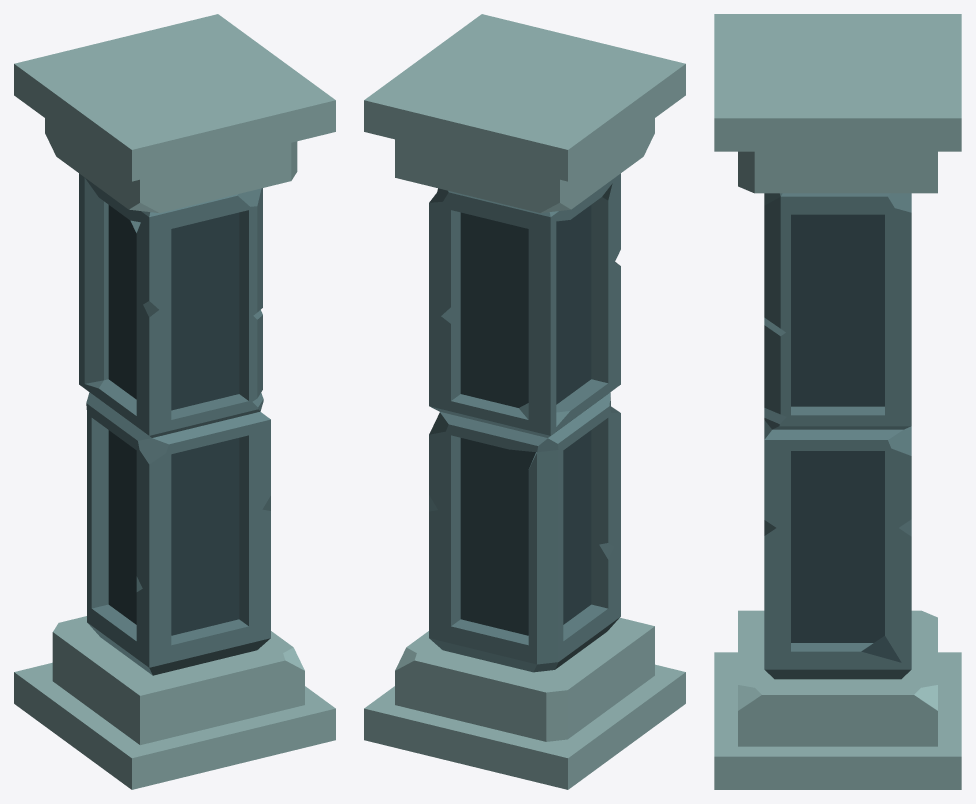
The model's file is Pillar 3.glb.
The picture shows the model from 3 angles, left to right: view 1: azimuth 30°, elevation 25°; view 2: azimuth 150°, elevation 25°; view 3: azimuth 270°, elevation 25°; orthographic projection. The views are drawn at different scales.
Parts seen in each view (by area): view 1: Pillar 3; view 2: Pillar 3; view 3: Pillar 3.
Part boxes in pixels (box(x1,y1,x2,y2)): Pillar 3: box(14, 14, 335, 789); Pillar 3: box(364, 14, 685, 789); Pillar 3: box(714, 14, 961, 789).
Bounding box in the file's own units: 1 × 3 × 1.
Materials: 1 (1 with a texture image).
